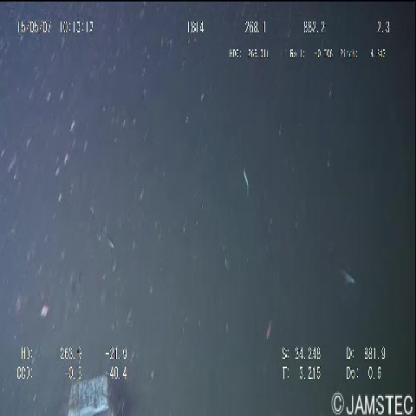Rác: (67, 376, 130, 414)
